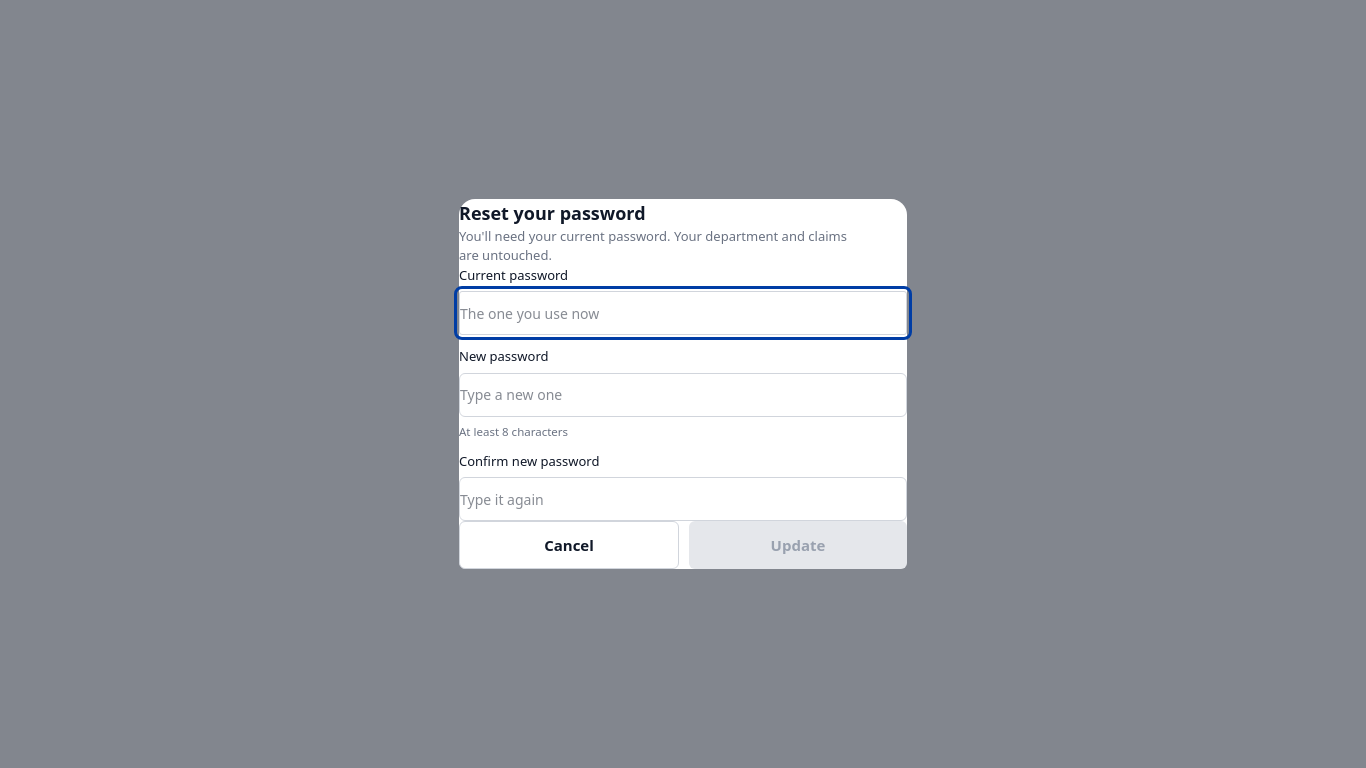
password sheet › shows the caller's error and keeps the sheet open
Type "oldpassword" into the password field labelled "Current password" at coordinates (683, 313), box [459,291,907,335]
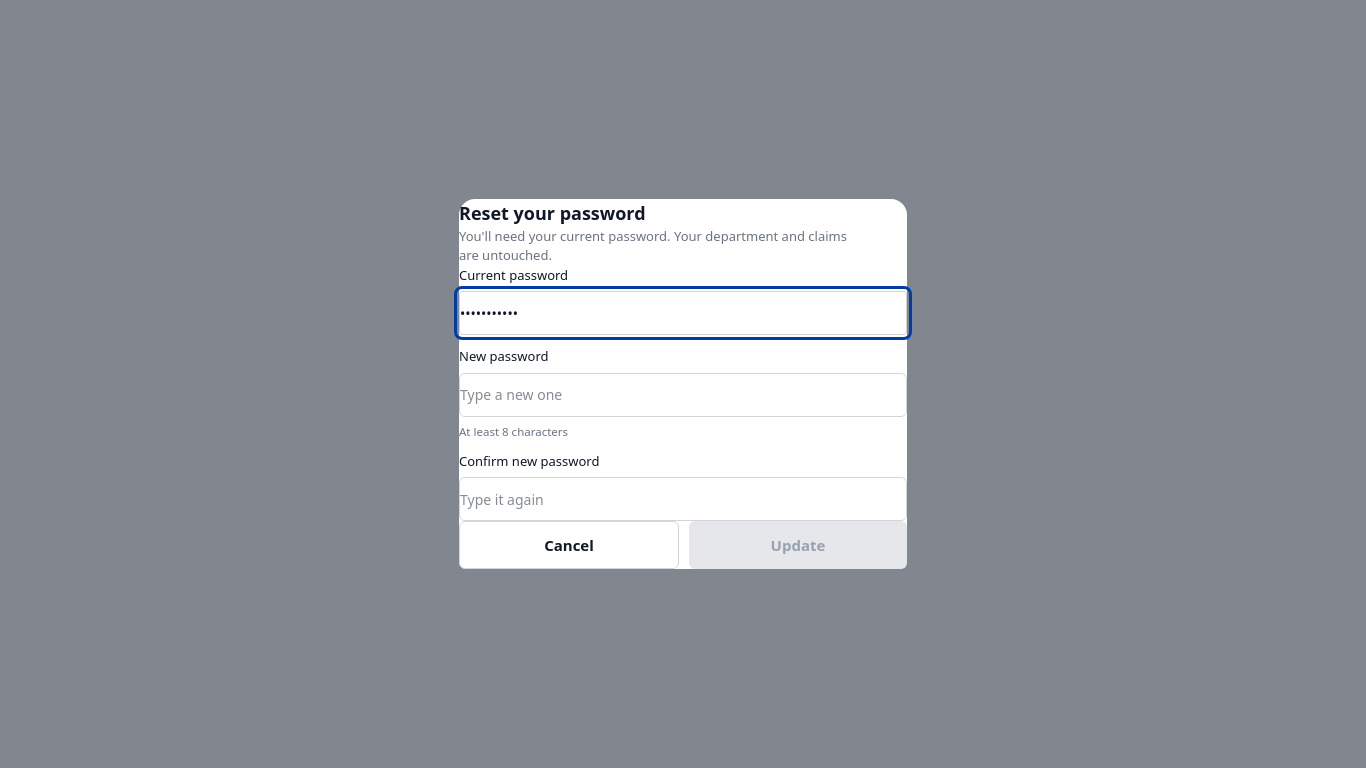
Type "longenough1" into the password field labelled "New password" at coordinates (683, 395), box [459,373,907,417]
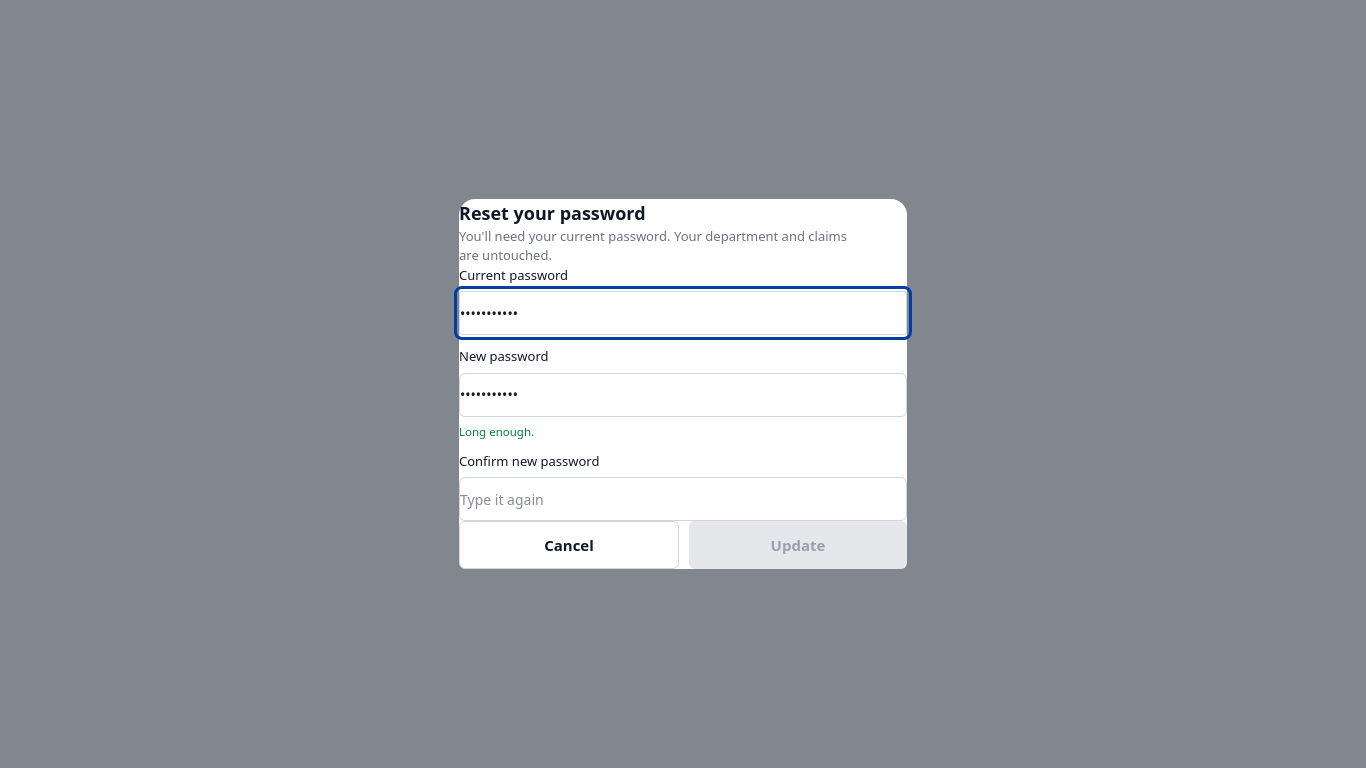
Type "longenough1" into the password field labelled "Confirm new password" at coordinates (683, 499), box [459,477,907,521]
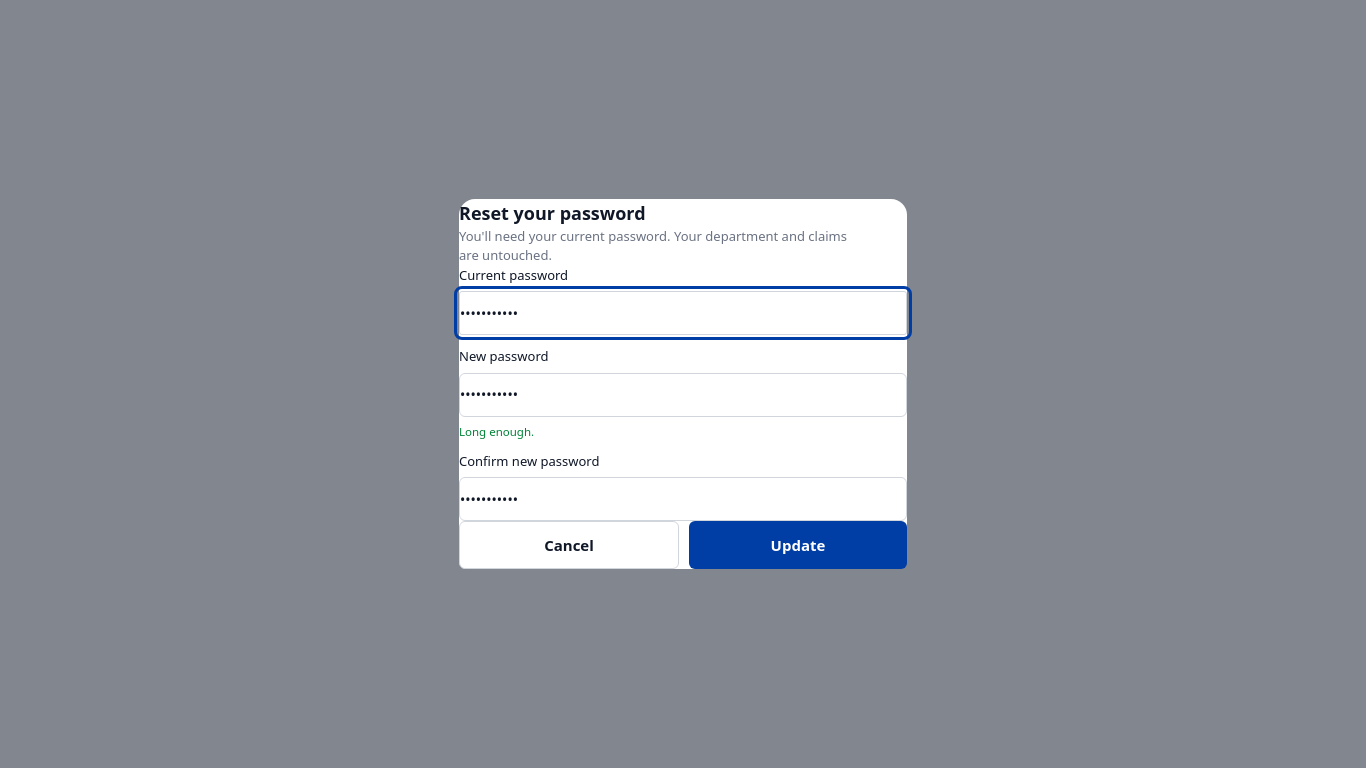
Click the button "Update" at coordinates (798, 545), box [689,521,907,569]
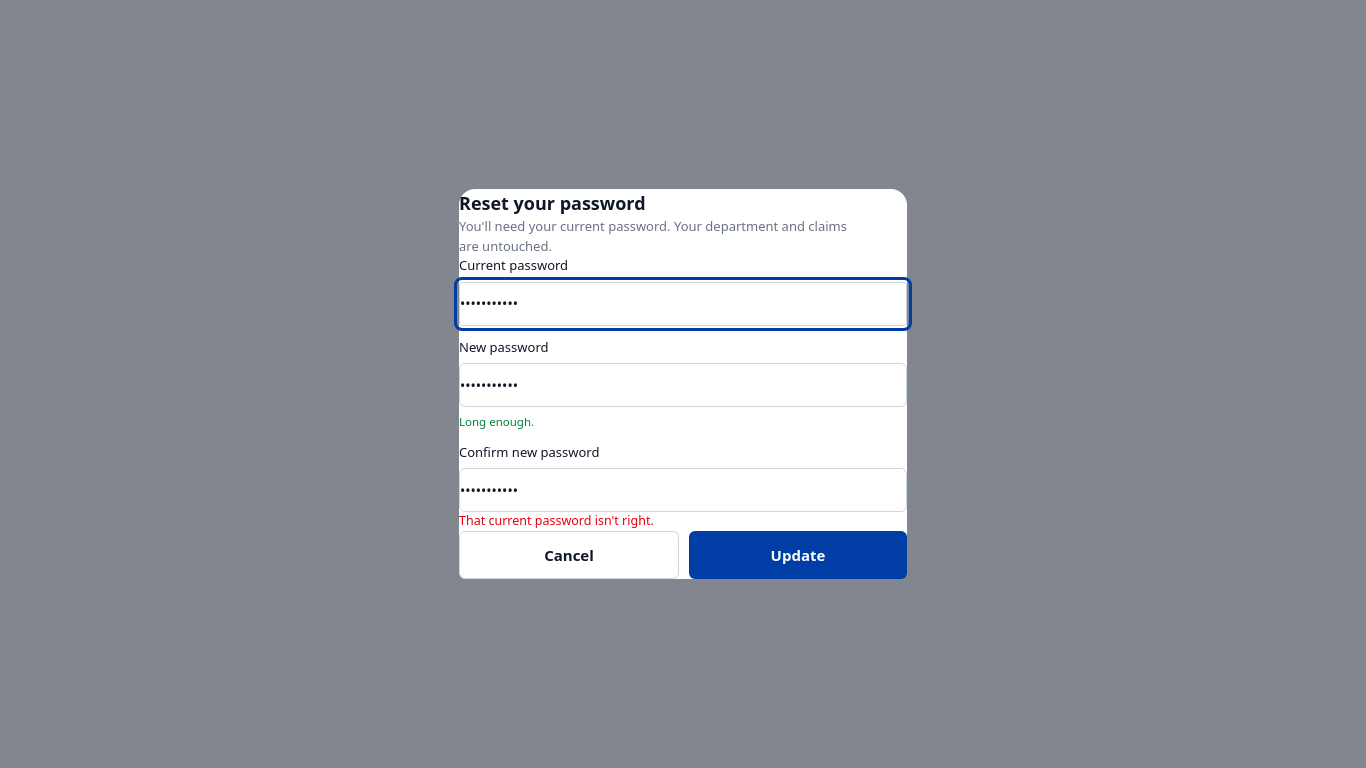
Now the message reads "That current password isn't right.", box [459,512,654,529]
